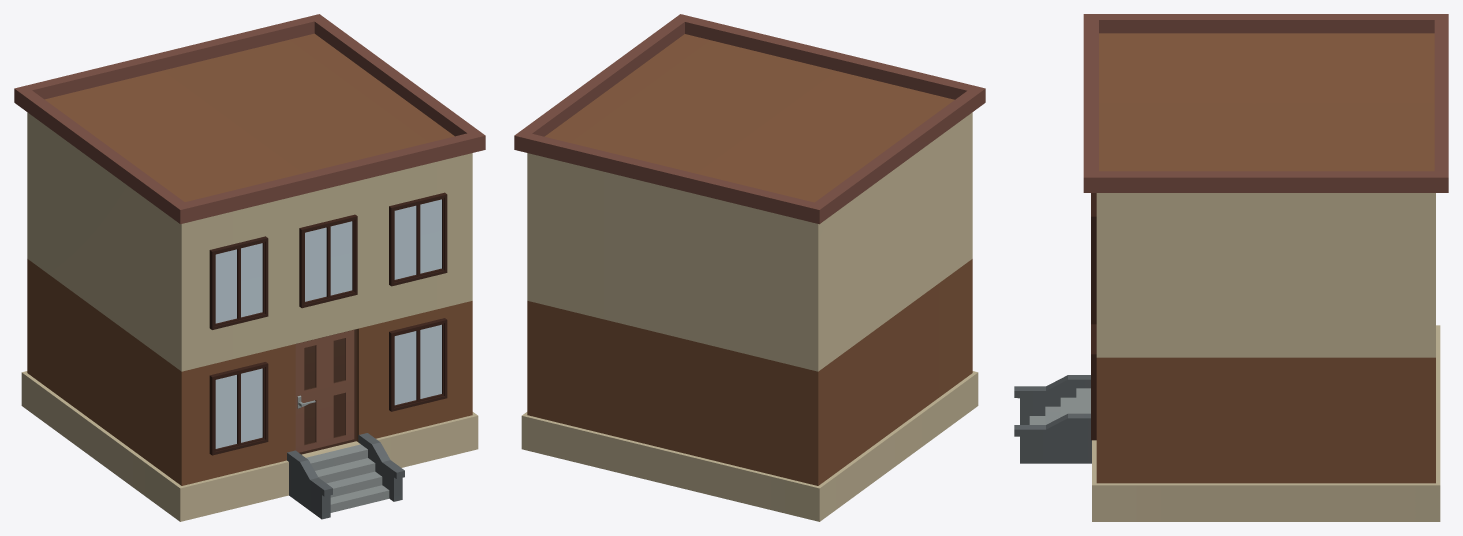
The model's file is Env_Motel_01.fbx.
The picture shows the model from 3 angles, left to right: view 1: azimuth 30°, elevation 25°; view 2: azimuth 150°, elevation 25°; view 3: azimuth 270°, elevation 25°; orthographic projection. The views are drawn at different scales.
Parts seen in each view (by area): view 1: Env_Motel_01; view 2: Env_Motel_01; view 3: Env_Motel_01.
Boxes of the visible parts, x1,y1,x2,y2 form: Env_Motel_01: (14, 14, 485, 521); Env_Motel_01: (514, 14, 985, 521); Env_Motel_01: (1014, 14, 1448, 521).
Size of the model in its own units: 593 by 585 by 665.
1 material, 1 textured.
